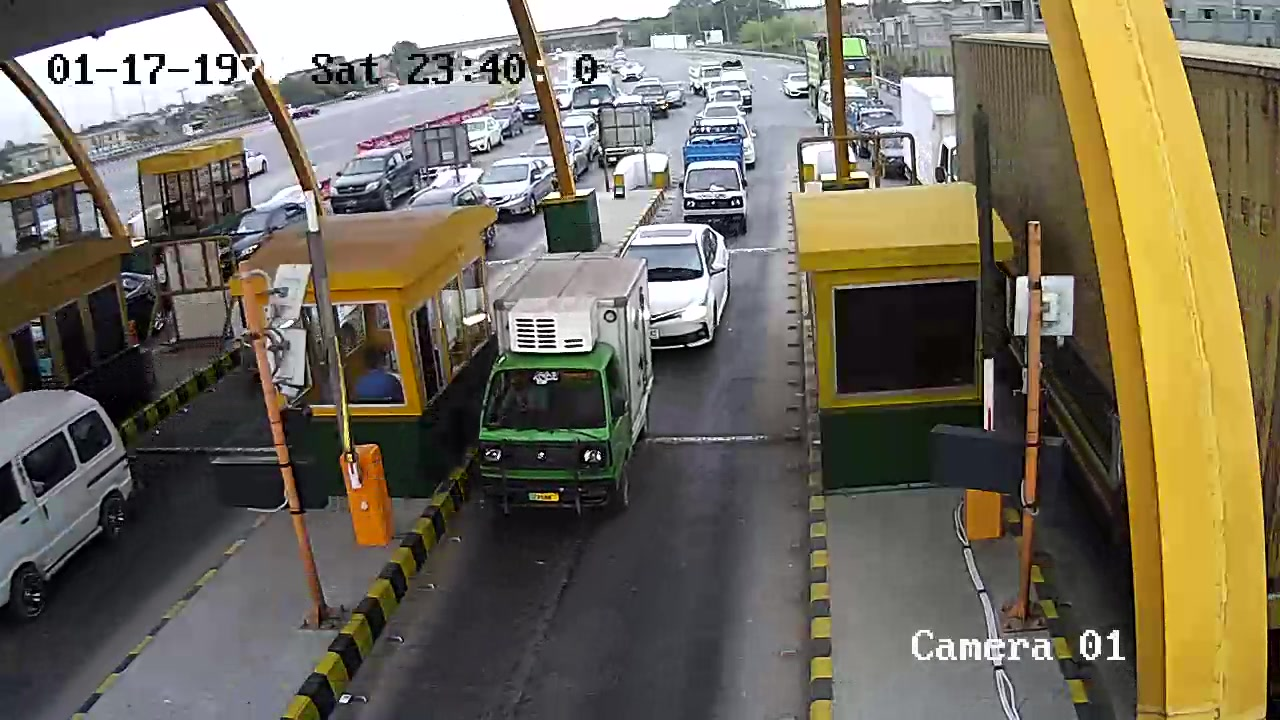F1: (483, 244, 657, 533)
